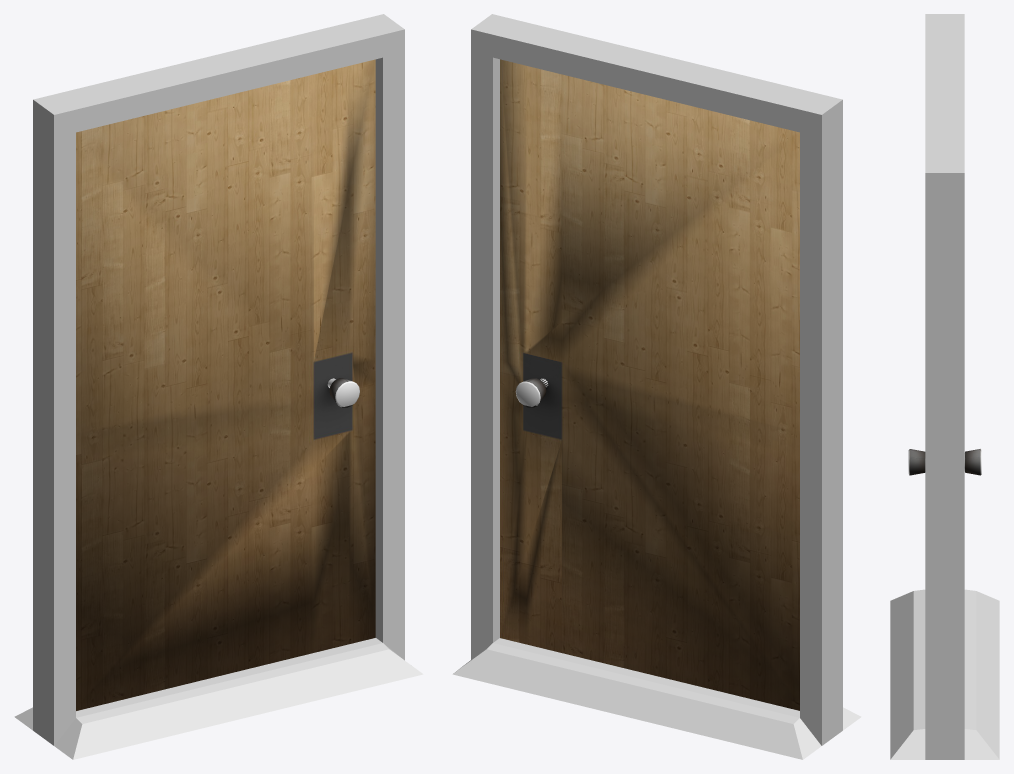
Rendered from door-with-frame.glb.
The picture shows the model from 3 angles, left to right: view 1: azimuth 30°, elevation 25°; view 2: azimuth 150°, elevation 25°; view 3: azimuth 270°, elevation 25°; orthographic projection. The views are drawn at different scales.
Visible parts, largest first — view 1: DoorPanel, Frame; view 2: DoorPanel, Frame; view 3: Frame, DoorPanel.
Part boxes in pixels (bbox=[...]): DoorPanel: bbox=[76, 59, 375, 710]; Frame: bbox=[14, 14, 423, 759]; DoorPanel: bbox=[500, 59, 799, 710]; Frame: bbox=[452, 14, 861, 759]; Frame: bbox=[890, 14, 999, 759]; DoorPanel: bbox=[908, 449, 981, 475].
Size of the model in its own units: 2 by 3.44 by 0.5815.
Materials: 3 (1 with a texture image).
